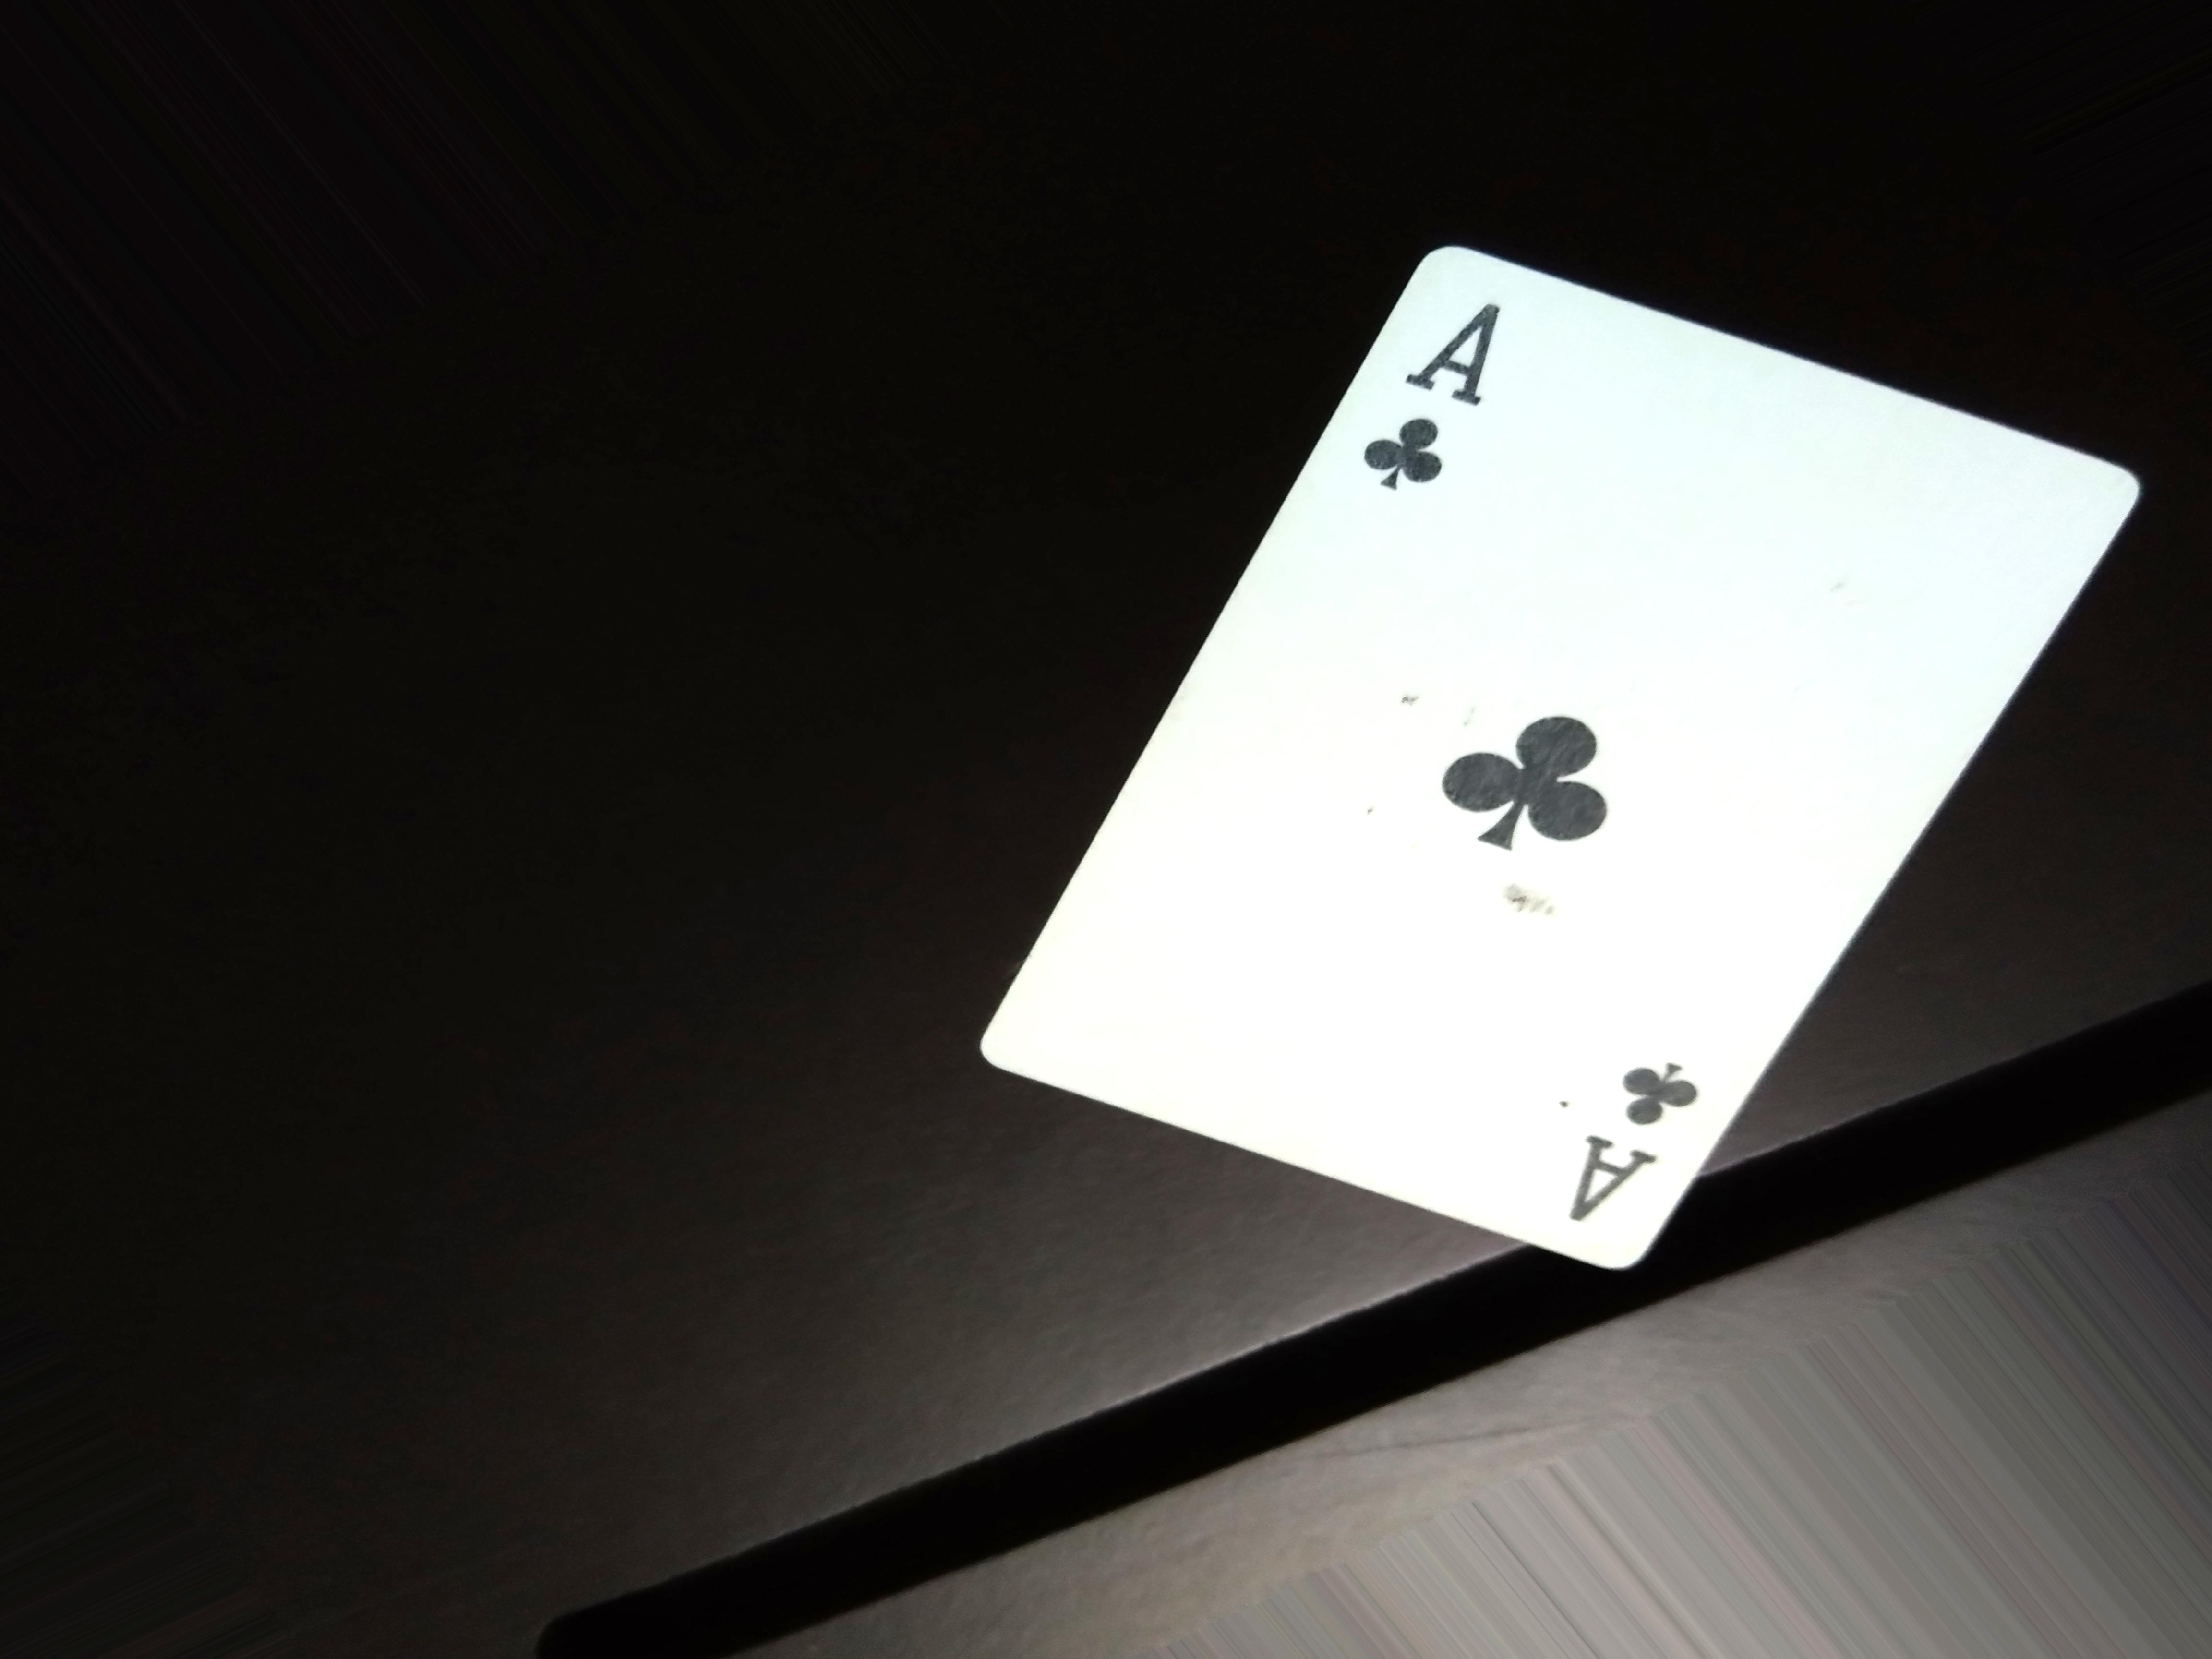AC: (1355, 291, 1510, 514)
